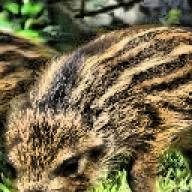boar: (0, 22, 192, 192)
